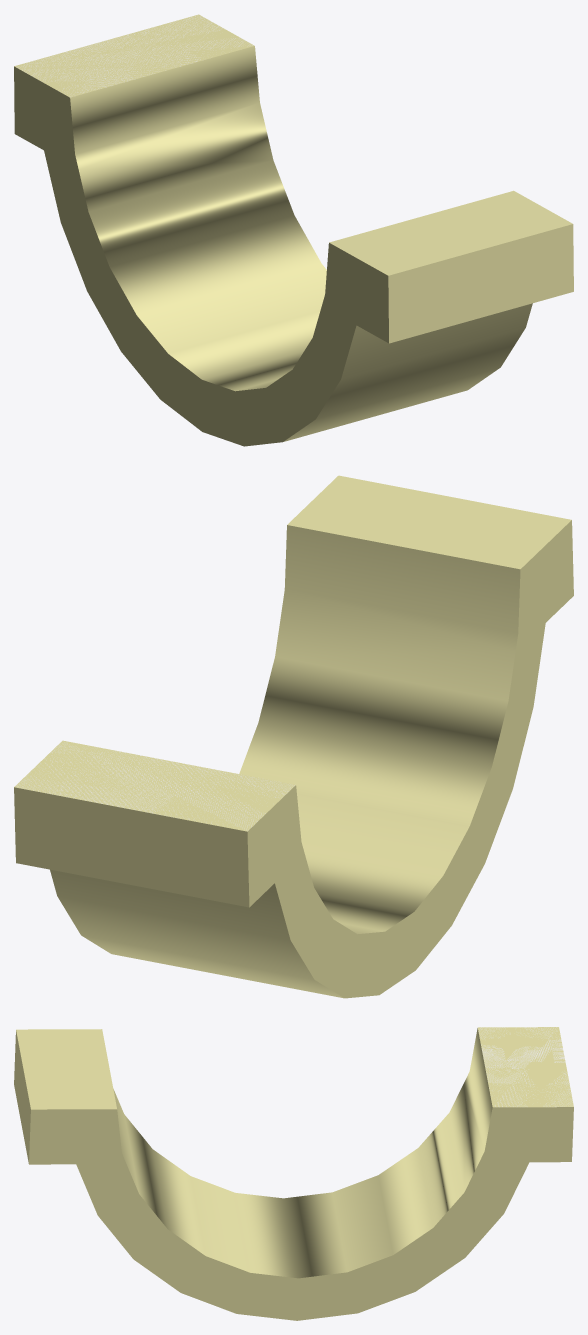
Rendered from original-5.obj.
The picture shows the model from 3 angles, top to bottom: view 1: azimuth 30°, elevation 25°; view 2: azimuth 150°, elevation 25°; view 3: azimuth 270°, elevation 25°; orthographic projection. The views are drawn at different scales.
Visible parts, largest first — view 1: Group5/mesh7/mesh7-geometry#mesh7-geometry; view 2: Group5/mesh7/mesh7-geometry#mesh7-geometry; view 3: Group5/mesh7/mesh7-geometry#mesh7-geometry.
Part boxes in pixels (bbox=[...]): Group5/mesh7/mesh7-geometry#mesh7-geometry: bbox=[14, 14, 573, 446]; Group5/mesh7/mesh7-geometry#mesh7-geometry: bbox=[14, 475, 573, 998]; Group5/mesh7/mesh7-geometry#mesh7-geometry: bbox=[14, 1027, 573, 1320].
Size of the model in its own units: 0.0263 by 0.0282 by 0.0641.
